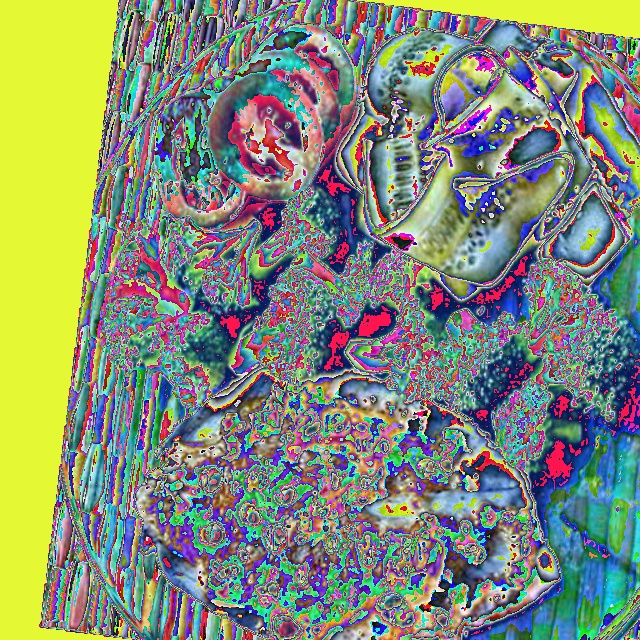background: (100, 21, 639, 639)
